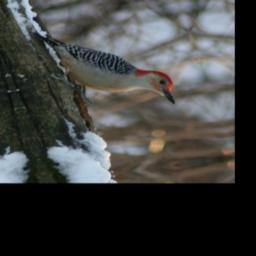Woodpecker: (34, 17, 181, 121)
